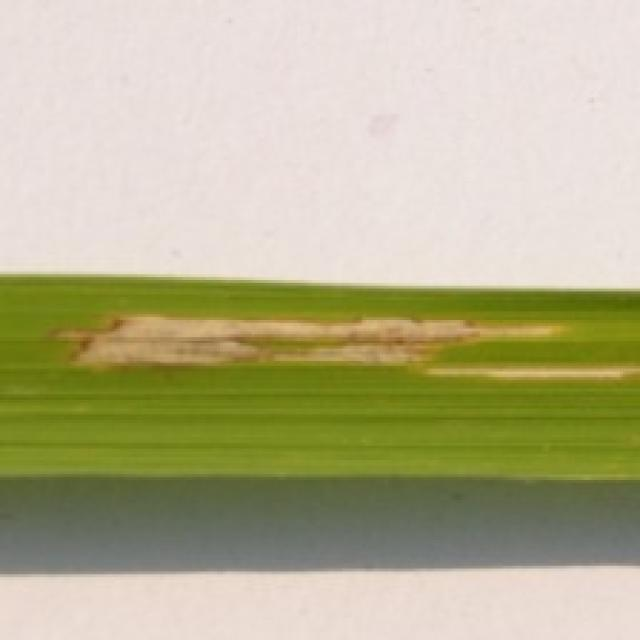Rice___Bacterial_Leaf_Blight: (0, 273, 637, 483)
